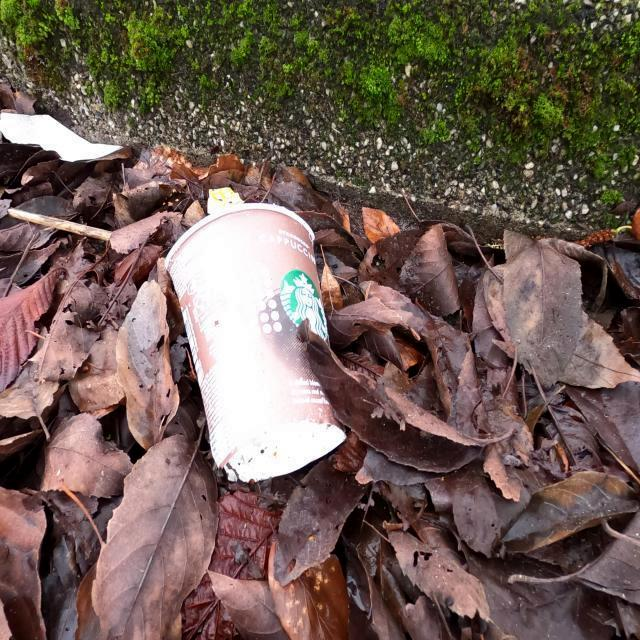Coffee Cup: (161, 200, 349, 486)
